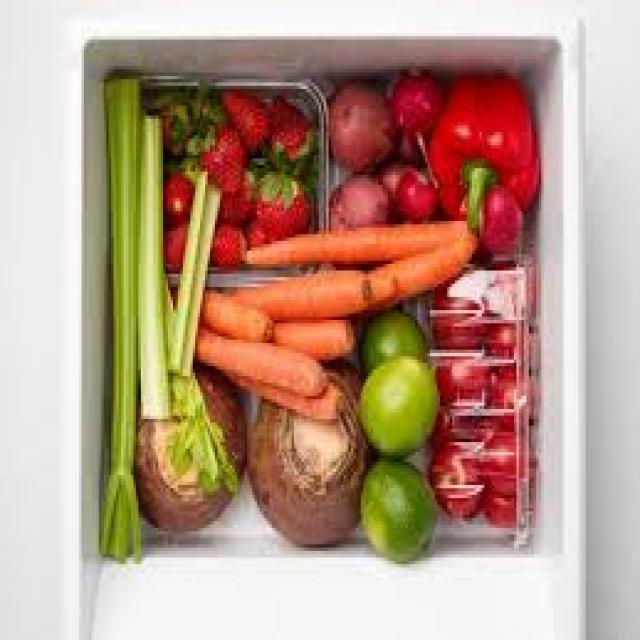organic waste: (94, 72, 141, 558), (245, 356, 363, 541), (126, 360, 242, 521), (425, 69, 536, 218), (165, 168, 218, 380), (136, 109, 170, 422), (240, 218, 462, 264), (190, 323, 326, 393), (364, 231, 474, 307), (358, 455, 435, 558), (173, 373, 240, 488), (218, 267, 364, 317), (328, 76, 391, 168), (346, 353, 432, 419), (245, 165, 309, 251), (385, 69, 440, 162), (358, 303, 425, 373), (262, 89, 314, 178), (183, 287, 272, 337), (427, 438, 482, 514), (212, 86, 270, 155), (235, 370, 336, 409), (198, 115, 247, 185), (482, 261, 539, 320), (376, 162, 432, 221), (479, 426, 532, 488), (430, 347, 489, 402), (329, 168, 383, 228), (477, 181, 521, 254), (482, 314, 529, 379), (272, 317, 351, 353), (484, 360, 532, 419), (430, 287, 479, 343), (150, 86, 192, 148), (435, 399, 494, 442), (215, 158, 254, 221), (188, 86, 227, 142), (163, 155, 195, 221), (210, 215, 245, 268), (484, 485, 524, 521), (163, 221, 188, 264)
